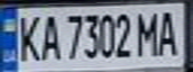0: (100, 10, 118, 58)
2: (115, 10, 136, 58)
3: (81, 10, 100, 60)
7: (60, 11, 84, 61)
A: (154, 7, 184, 56), (36, 11, 63, 62)
K: (12, 11, 42, 62)
M: (136, 8, 163, 57)
